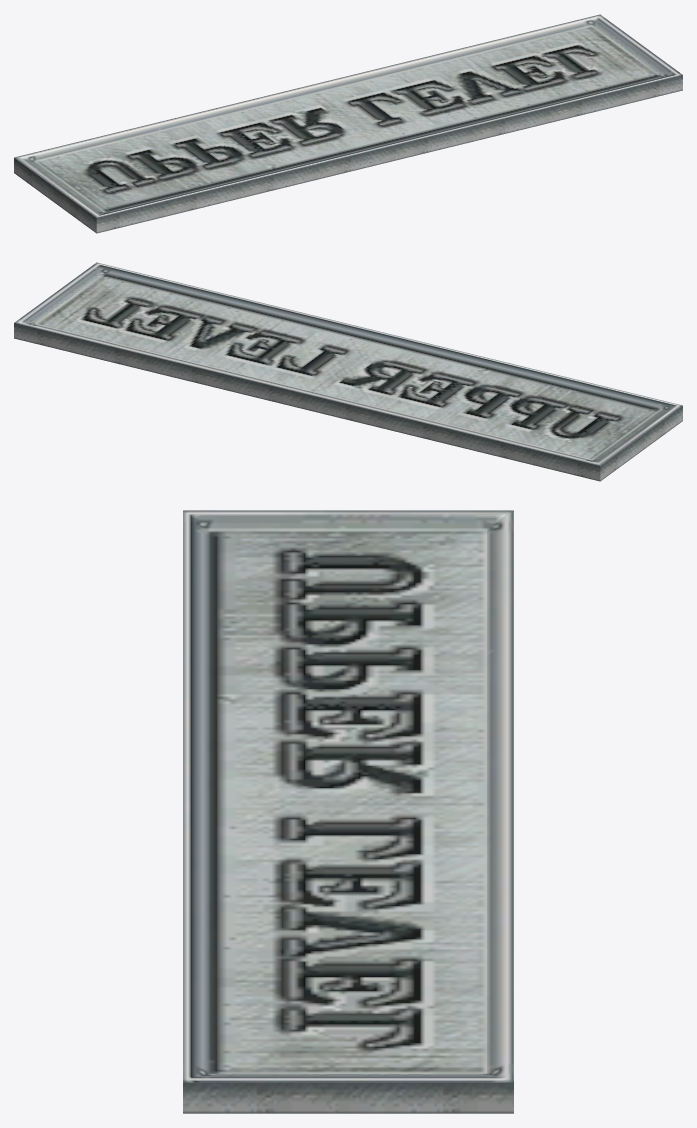
Rendered from sign_elevator_level.fbx.
3 views of the same model, one above another, from view 1: azimuth 30°, elevation 25°; view 2: azimuth 150°, elevation 25°; view 3: azimuth 270°, elevation 25° (orthographic). The views are drawn at different scales.
Visible parts, largest first — view 1: mesh_0; view 2: mesh_0; view 3: mesh_0.
Part boxes in pixels (<box>): mesh_0: <box>14,14,682,233</box>; mesh_0: <box>14,262,682,481</box>; mesh_0: <box>183,510,513,1113</box>.
Bounding box in the file's own units: 200 × 5.07 × 48.85.
1 material, 1 textured.
